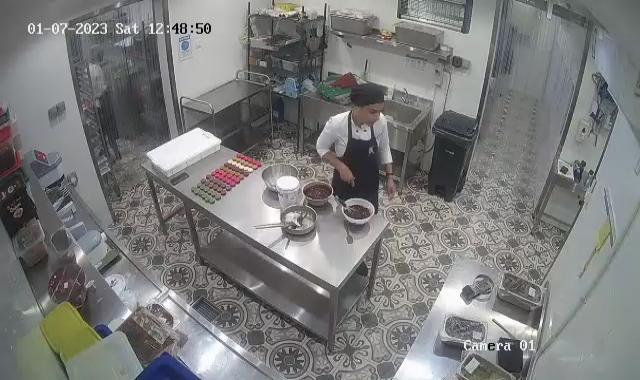no_hairnet: (348, 84, 387, 117)
